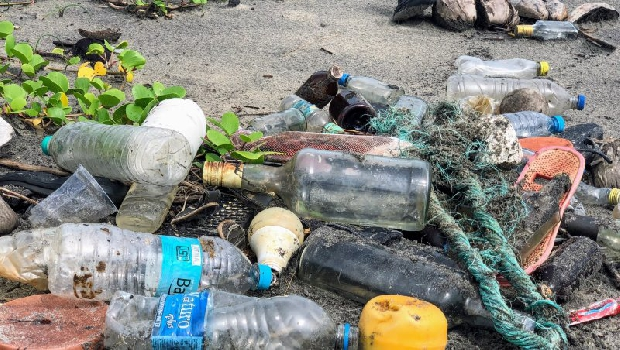General waste: (490, 147, 580, 287), (365, 297, 447, 350)
glass: (204, 151, 431, 224)
plastic: (60, 221, 265, 298), (103, 292, 355, 350), (46, 120, 188, 186)
